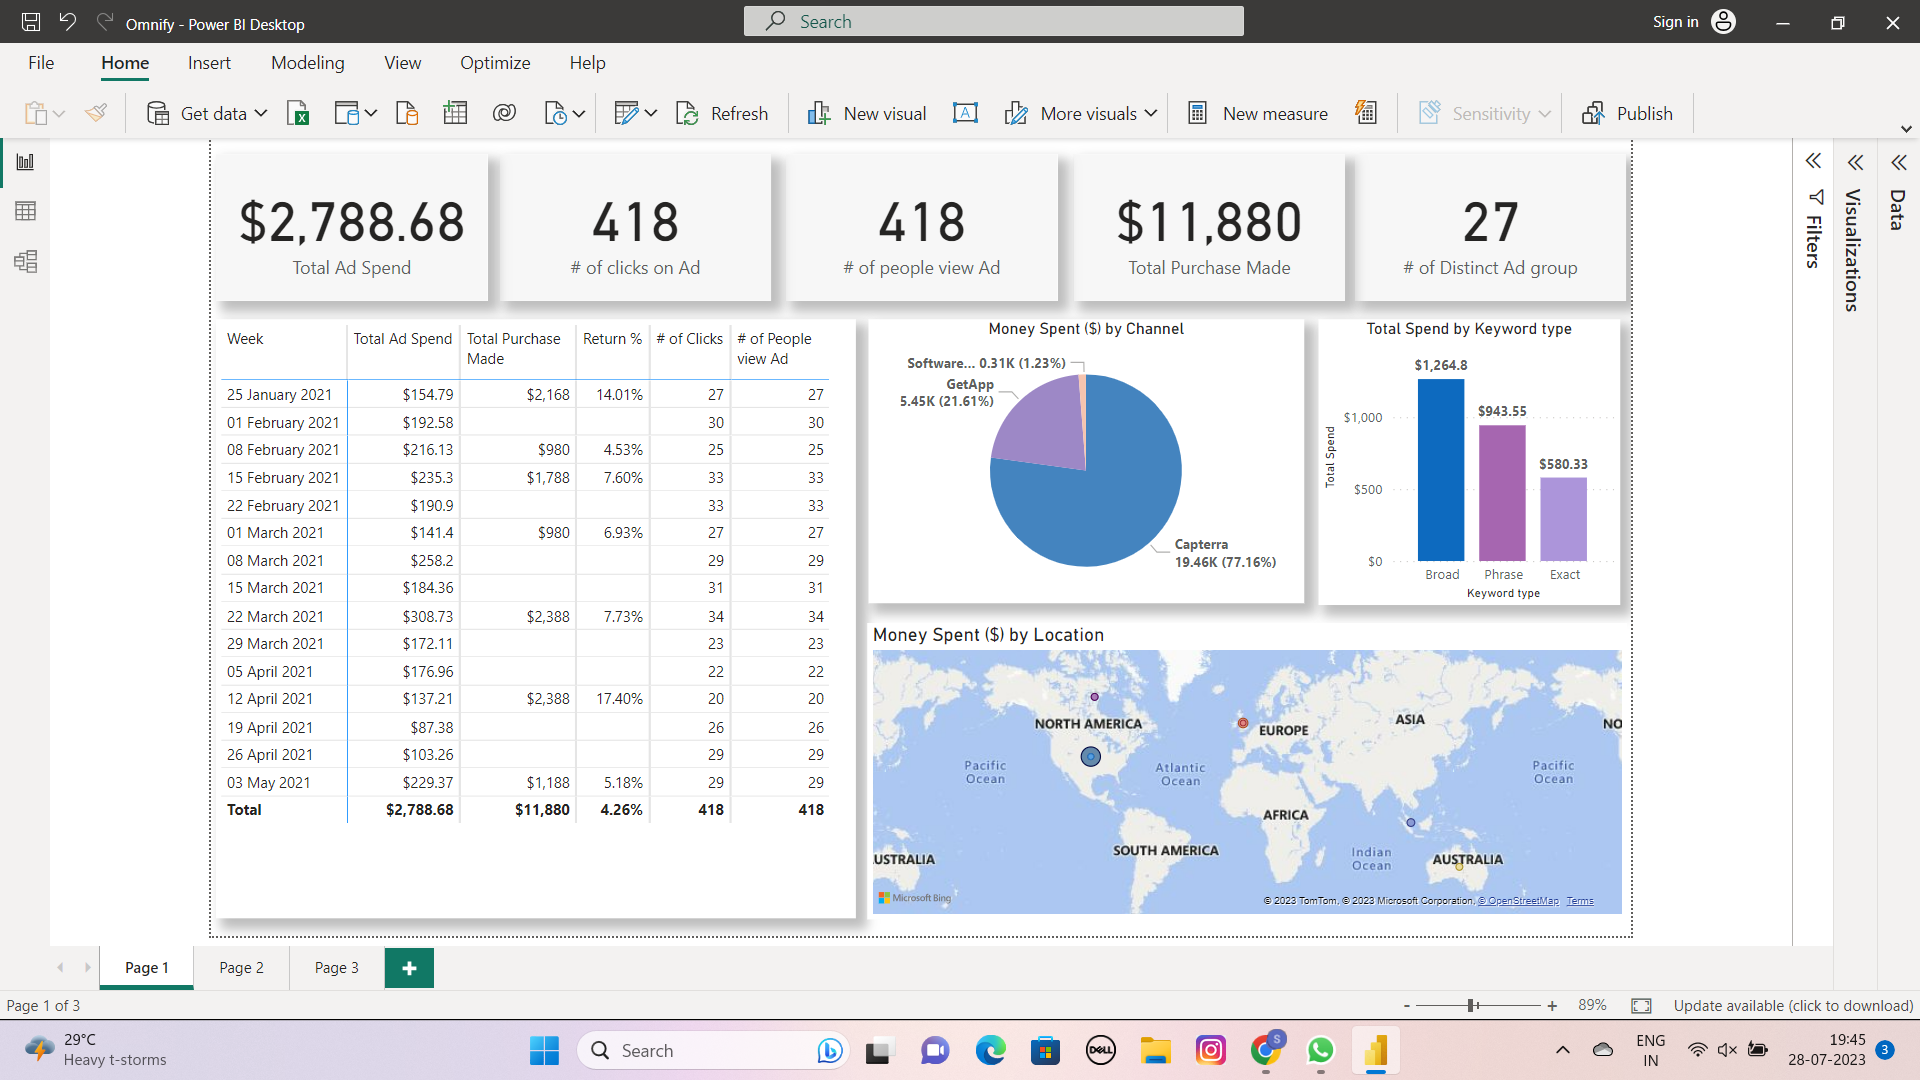

The dashboard page shown, as its layout file describes it:
{"tool":"powerbi","page":{"name":"Page 1","canvas":[1280,720],"ordinal":0},"visuals":[{"type":"card","fields":{"Values":["Sum(Google Ads Data.Cost ($))"]},"box":[4.8,14.7,244.8,131.9],"z":0},{"type":"card","fields":{"Values":["CountNonNull(Google Ads Data.Clicks)"]},"box":[260.7,14.7,244.8,131.9],"z":1000},{"type":"card","fields":{"Values":["CountNonNull(Google Ads Data.Impressions)"]},"box":[518.1,14.7,244.8,131.9],"z":2000},{"type":"card","fields":{"Values":["Sum(Google Ads Data.Payment ($))"]},"box":[777.2,14.7,244.8,131.9],"z":3000},{"type":"card","fields":{"Values":["Count(Google Ads Data.Ad group)"]},"box":[1031.5,14.7,244.8,131.9],"z":4000},{"type":"pivotTable","fields":{"Rows":["Google Ads Data.Week"],"Values":["Sum(Google Ads Data.Cost ($))","Sum(Google Ads Data.Payment ($))","Google Ads Data.Return %","CountNonNull(Google Ads Data.Clicks)","CountNonNull(Google Ads Data.Impressions)"]},"box":[4.8,163.7,577,540.4],"z":5000},{"type":"pieChart","fields":{"Category":["Listing Site Data.Channel"],"Y":["Sum(Listing Site Data.Money Spent ($))"]},"box":[592.8,163.7,392.6,255.9],"z":6000},{"type":"clusteredColumnChart","fields":{"Category":["Google Ads Data.Keyword type"],"Y":["Sum(Google Ads Data.Cost ($))"]},"box":[998.1,163.7,271.8,257.5],"z":7000},{"type":"map","fields":{"Size":["Sum(Listing Site Data.Money Spent ($))"],"Category":["Listing Site Data.Location"]},"box":[591.3,437.1,685,267],"z":8000}]}

Visuals, with their boxes on the page's 1280x720 design canvas (x1, y1, x2, y2). These are canvas units, not pixel positions in the 1920x1080 screenshot, which may show the page scaled, cropped or inside an application window:
card - Sum(Google Ads Data.Cost ($)): 5:15:250:147
card - CountNonNull(Google Ads Data.Clicks): 261:15:506:147
card - CountNonNull(Google Ads Data.Impressions): 518:15:763:147
card - Sum(Google Ads Data.Payment ($)): 777:15:1022:147
card - Count(Google Ads Data.Ad group): 1032:15:1276:147
pivotTable - Google Ads Data.Week x Sum(Google Ads Data.Cost ($)): 5:164:582:704
pieChart - Listing Site Data.Channel x Sum(Listing Site Data.Money Spent ($)): 593:164:985:420
clusteredColumnChart - Google Ads Data.Keyword type x Sum(Google Ads Data.Cost ($)): 998:164:1270:421
map - Sum(Listing Site Data.Money Spent ($)) x Listing Site Data.Location: 591:437:1276:704
